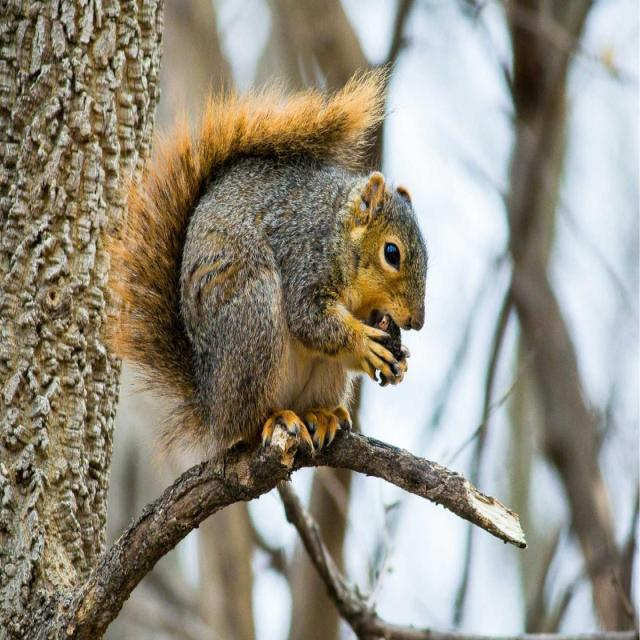Squirrel: (109, 70, 428, 476)
